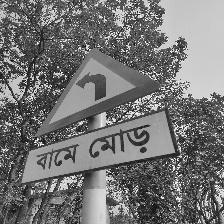Left-Turn: (24, 49, 172, 224)
